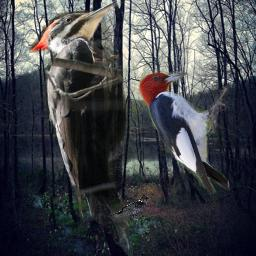Crow: (112, 195, 150, 222)
Woodpecker: (29, 0, 129, 254), (136, 67, 234, 195)
